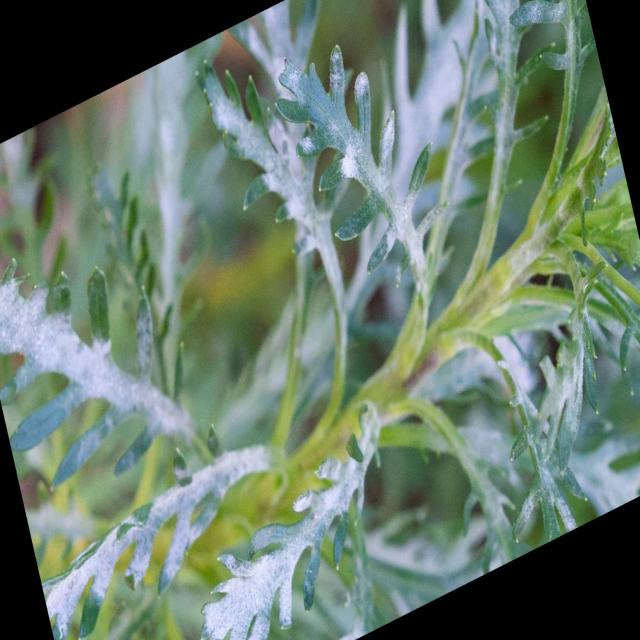Powdery Mildew: (274, 42, 448, 292), (200, 399, 382, 638), (1, 261, 198, 472)
